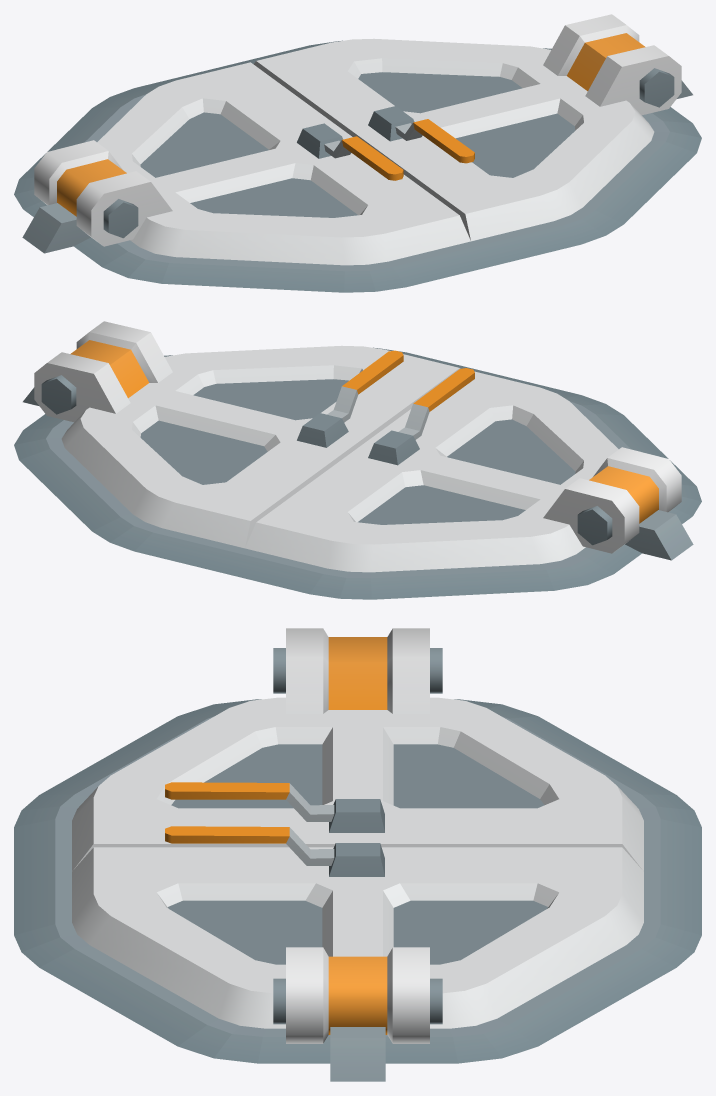
The model's file is Hatch_005.glb.
3 renders of one model, top to bottom at view 1: azimuth 30°, elevation 25°; view 2: azimuth 150°, elevation 25°; view 3: azimuth 270°, elevation 25°, orthographic. The views are drawn at different scales.
Visible parts, largest first — view 1: Hatch_005; view 2: Hatch_005; view 3: Hatch_005.
Part boxes in pixels (box(x1,y1,x2,y2)): Hatch_005: box(14, 14, 701, 292); Hatch_005: box(14, 321, 701, 599); Hatch_005: box(14, 628, 701, 1081).
Bounding box in the file's own units: 1.33 × 0.1226 × 0.9625.
Materials: 1 (1 with a texture image).
